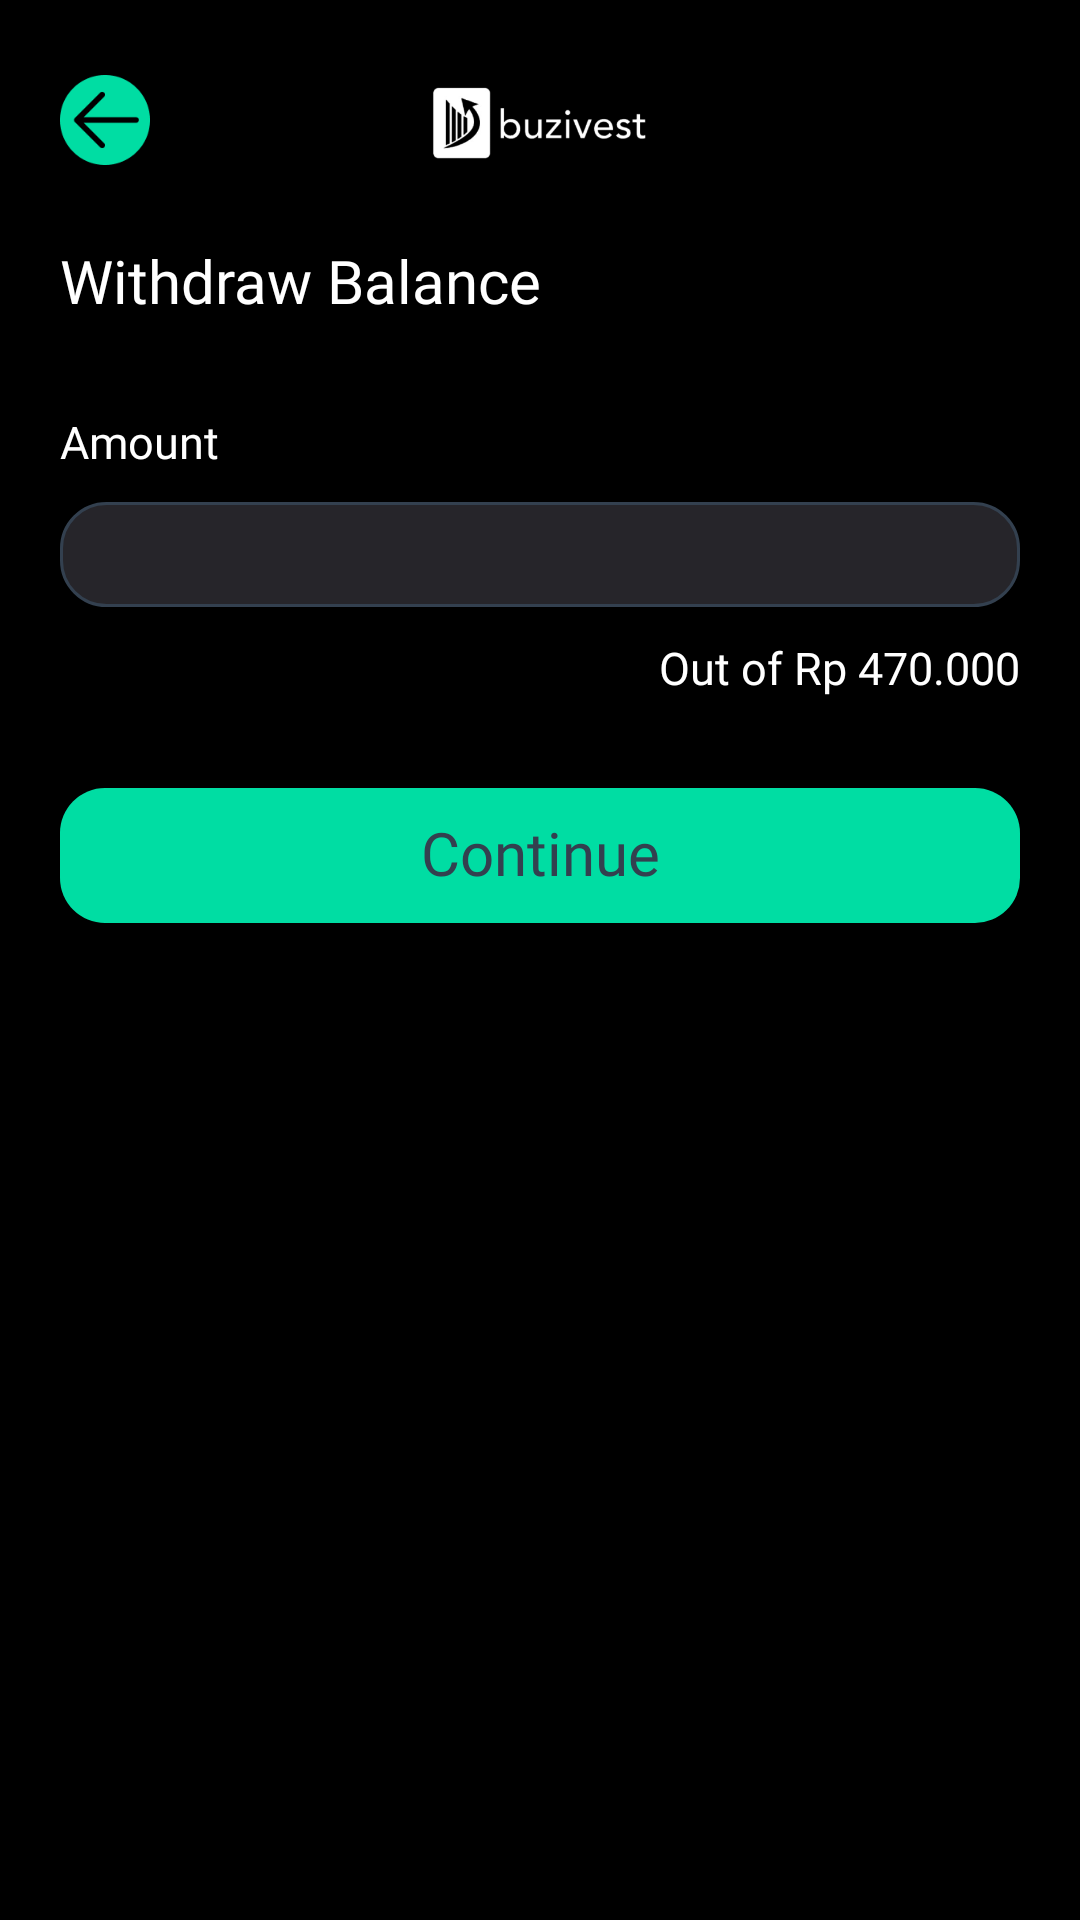

Icon click points for this 1080px×1920px phone screenshot, format [x,y]:
detail back: [105,120]
